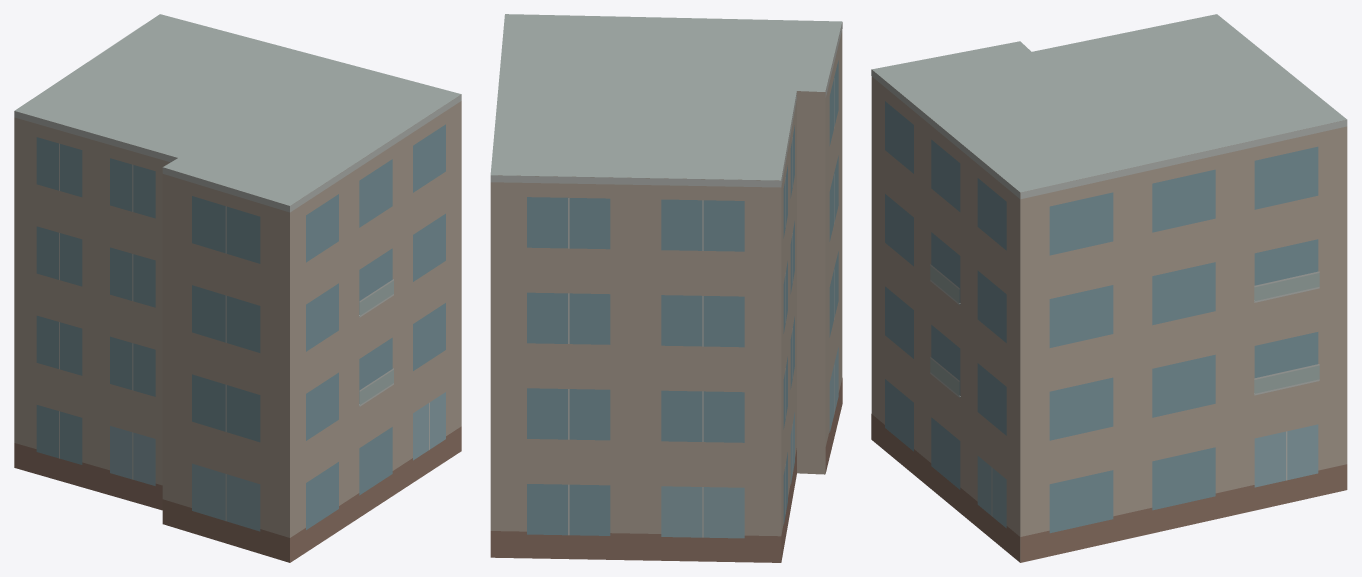
The model's file is survey-upis-32914303.glb.
3 renders of one model, left to right at view 1: azimuth 30°, elevation 25°; view 2: azimuth 150°, elevation 25°; view 3: azimuth 270°, elevation 25°, orthographic. The views are drawn at different scales.
Parts seen in each view (by area): view 1: survey-upis-32914303.tmp; view 2: survey-upis-32914303.tmp; view 3: survey-upis-32914303.tmp.
Boxes of the visible parts, <box> form: survey-upis-32914303.tmp: <box>14,14,461,562</box>; survey-upis-32914303.tmp: <box>490,14,842,562</box>; survey-upis-32914303.tmp: <box>871,14,1347,562</box>.
Size of the model in its own units: 13.77 by 13.31 by 15.5.
